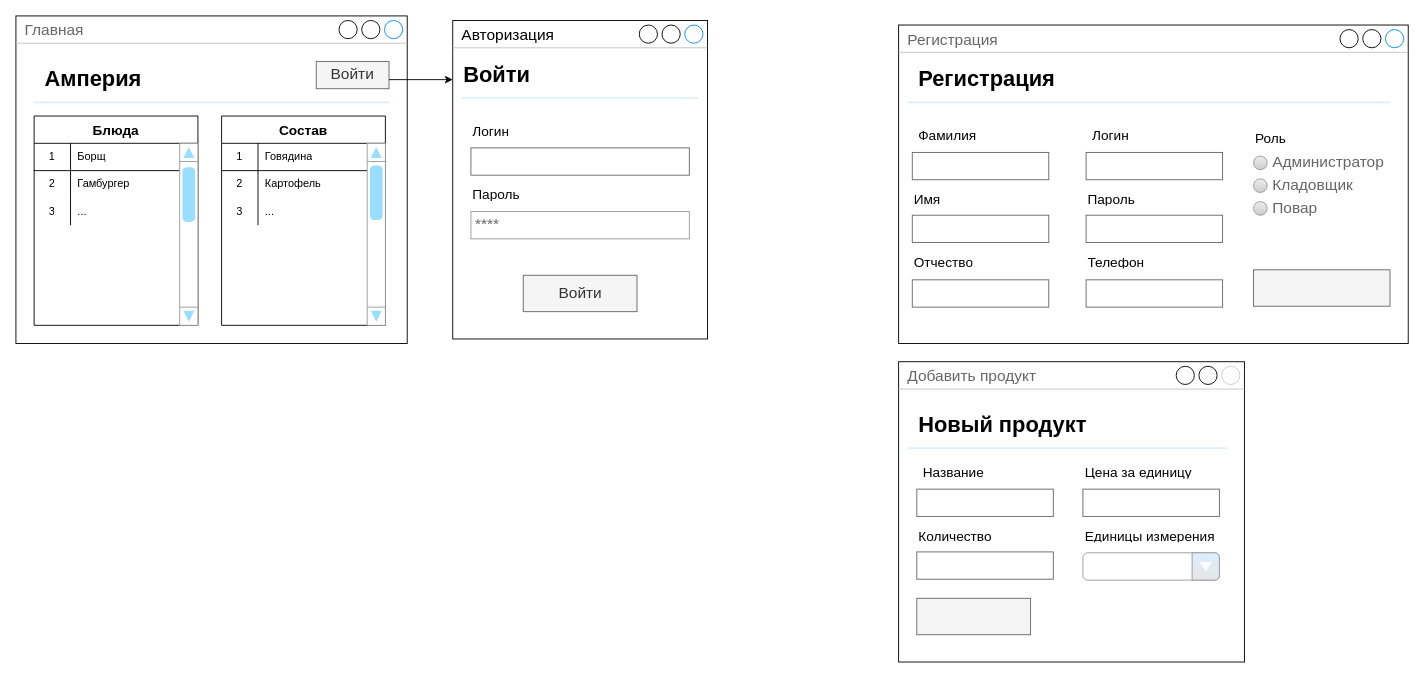
The diagram is 1424 pixels wide and 678 high, and some of its shapes have lost their labels. The centre of each missing label's shape, as x and y in pixels:
Amperiadmin: the point at 579,161
Добавить: the point at 973,616
Зарегистрировать: the point at 1321,287
Кг: the point at 1150,566
